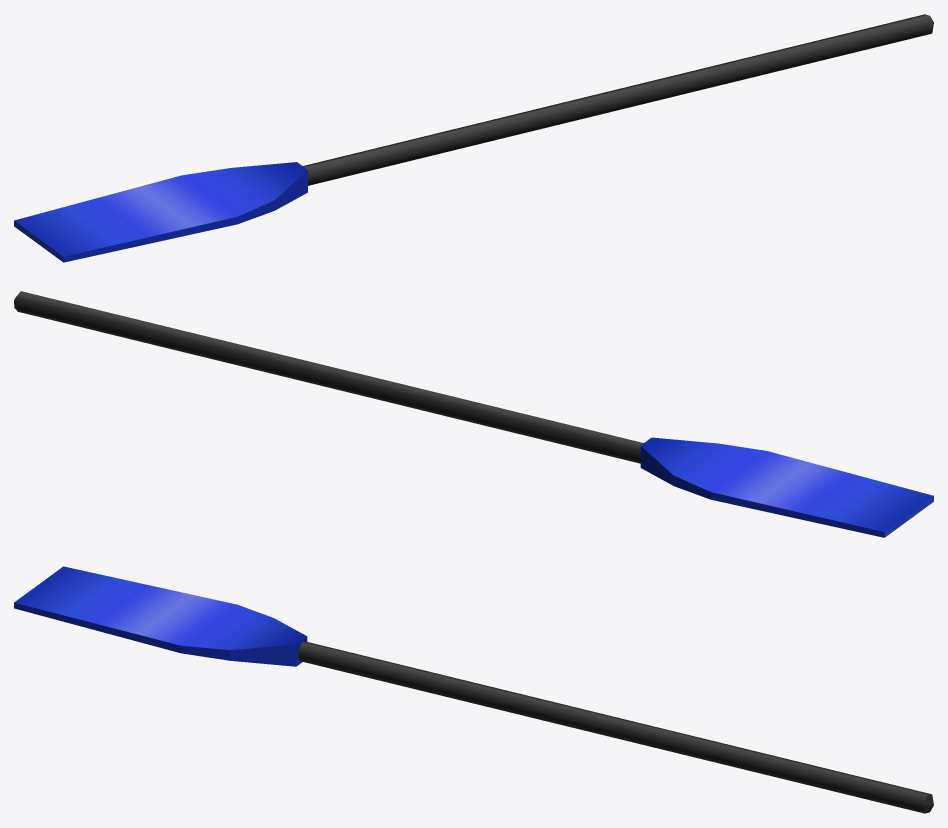
The model's file is Oar_03.FBX.
The picture shows the model from 3 angles, top to bottom: view 1: azimuth 30°, elevation 25°; view 2: azimuth 150°, elevation 25°; view 3: azimuth 330°, elevation 25°; orthographic projection.
Visible parts, largest first — view 1: Oar_03; view 2: Oar_03; view 3: Oar_03.
Boxes of the visible parts, x1,y1,x2,y2 form: Oar_03: (14,14,933,262); Oar_03: (14,291,933,537); Oar_03: (14,566,933,813).
Bounding box in the file's own units: 1.67 × 0.1814 × 0.0396.
